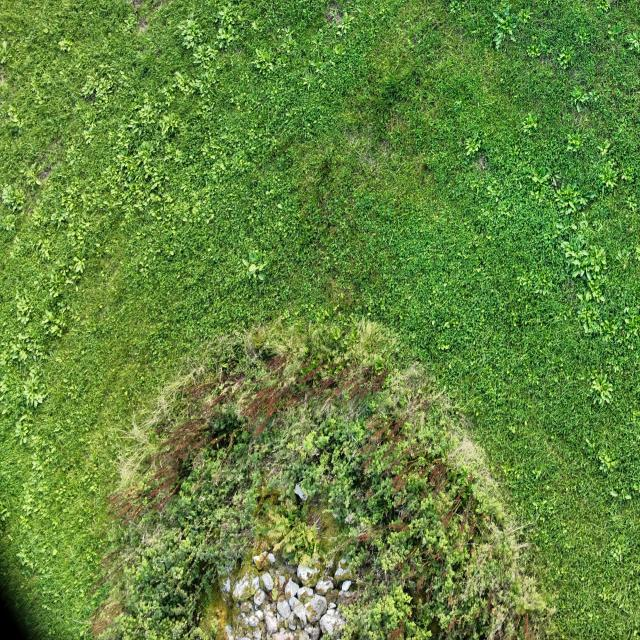rumex: (304, 330, 367, 385), (119, 137, 162, 190), (44, 260, 83, 315), (558, 232, 597, 280), (175, 11, 209, 58), (213, 4, 244, 54), (550, 178, 586, 218), (80, 70, 115, 109), (21, 368, 48, 412), (40, 300, 70, 338), (169, 68, 200, 101), (1, 183, 26, 218), (589, 373, 615, 405), (328, 7, 353, 39), (598, 159, 621, 191), (252, 45, 276, 74), (6, 104, 27, 130), (568, 85, 588, 110), (463, 133, 481, 157), (68, 256, 86, 279), (556, 47, 573, 69), (596, 139, 612, 162), (522, 112, 538, 135), (566, 132, 583, 152), (624, 30, 640, 51), (57, 37, 73, 53)
